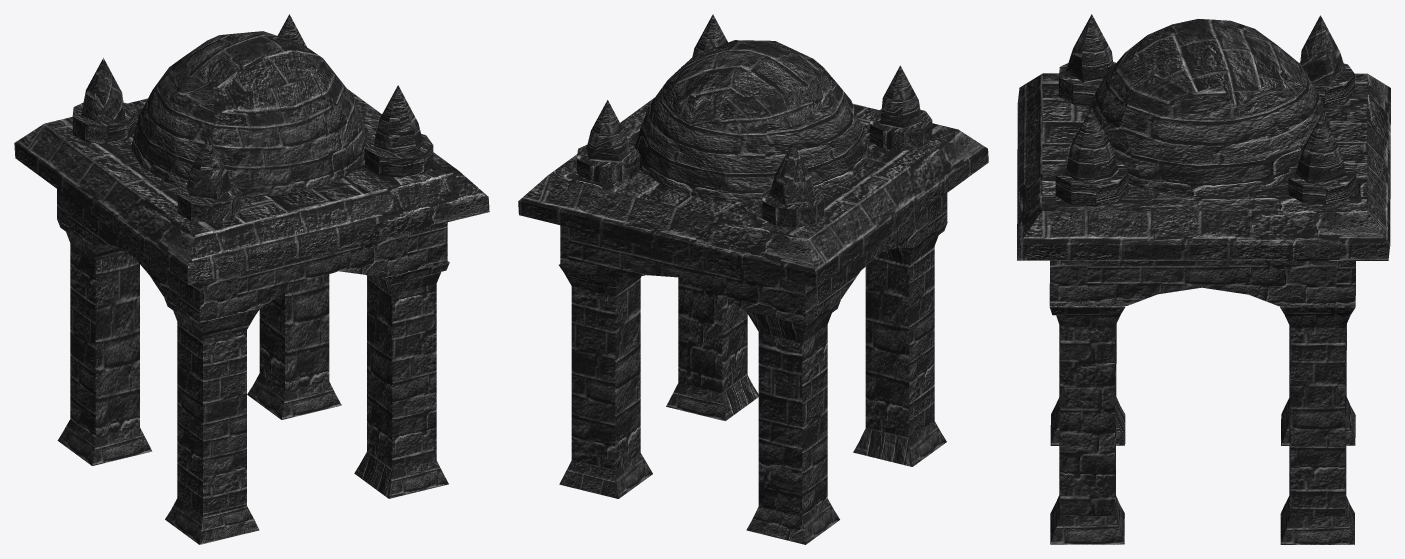
Rendered from GATE 1.fbx.
The picture shows the model from 3 angles, left to right: view 1: azimuth 30°, elevation 25°; view 2: azimuth 150°, elevation 25°; view 3: azimuth 270°, elevation 25°; orthographic projection. The views are drawn at different scales.
Visible parts, largest first — view 1: Cylinder.012; view 2: Cylinder.012; view 3: Cylinder.012.
Part boxes in pixels (x1,y1,x2,y2): Cylinder.012: (14, 14, 489, 544); Cylinder.012: (518, 14, 988, 544); Cylinder.012: (1017, 14, 1390, 544).
Bounding box in the file's own units: 514 × 685 × 516.
